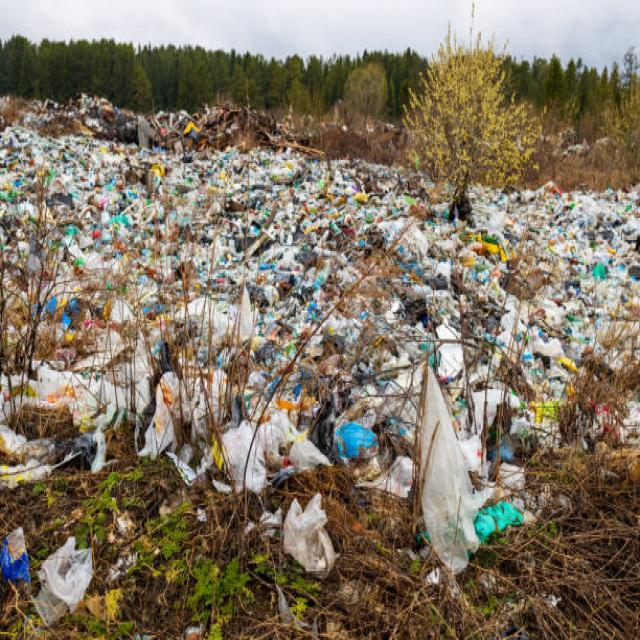plastic: (82, 140, 446, 412)
